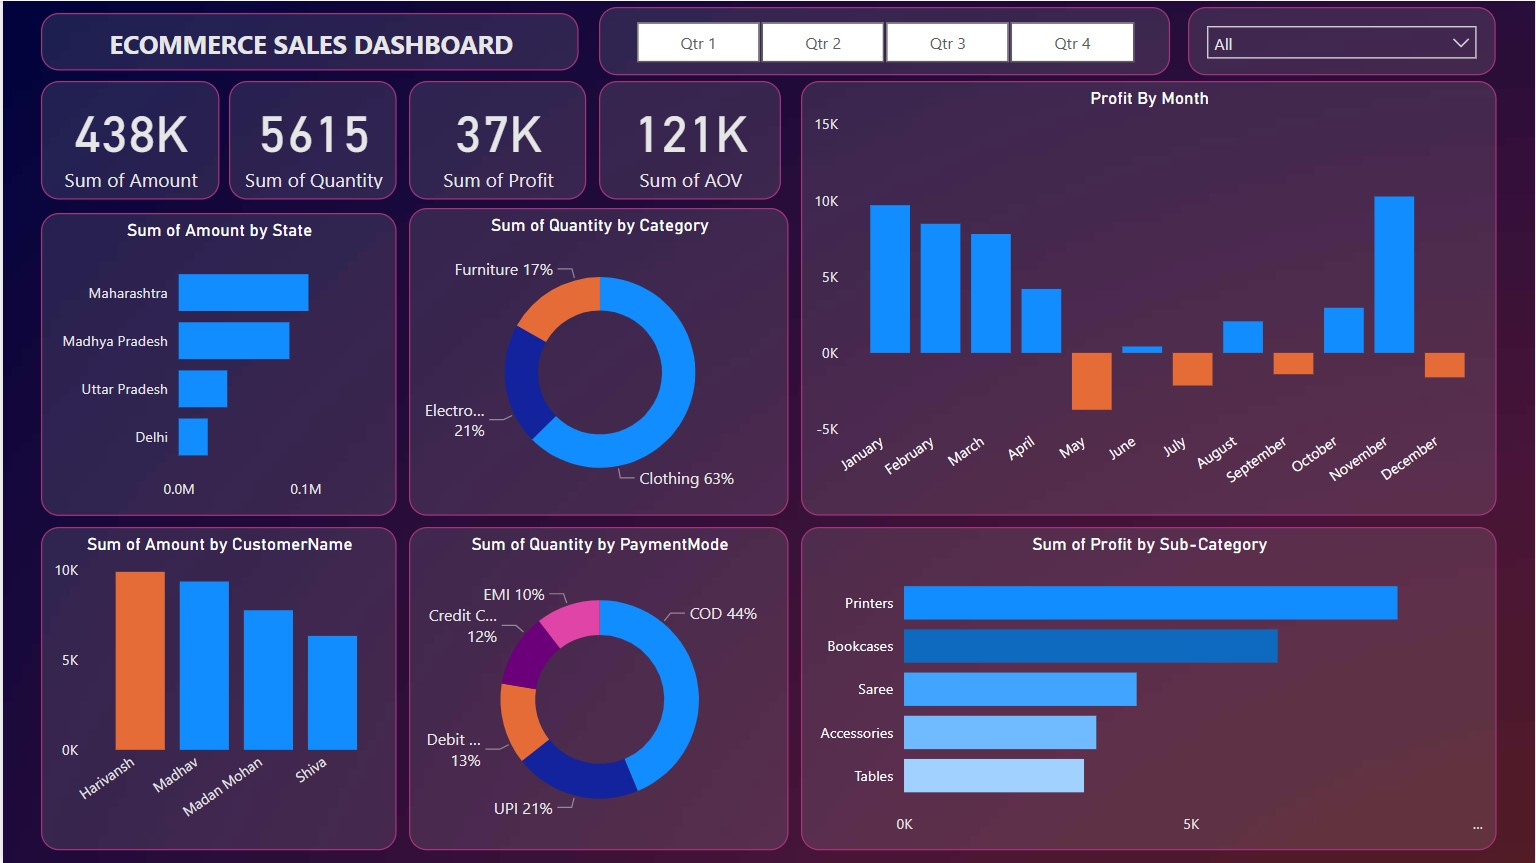

Layout of this report page (visuals, bound fields, positions):
{"tool":"powerbi","page":{"name":"Page 1","canvas":[1280,720],"ordinal":0},"visuals":[{"type":"textbox","box":[32.1,9.7,449.4,47.7],"z":0},{"type":"columnChart","title":"Profit By Month","fields":{"Category":["Orders.Order Date.Variation.Date Hierarchy.Month"],"Y":["Details.Profit"]},"box":[666.3,67.1,580.7,362.8],"z":1000},{"type":"barChart","fields":{"Category":["Details.Sub-Category"],"Y":["Details.Profit"]},"box":[666.3,439.6,580.7,270.4],"z":2000},{"type":"donutChart","fields":{"Category":["Details.Category"],"Y":["Details.Quantity"]},"box":[339.5,173.1,317.1,256.8],"z":3000},{"type":"donutChart","fields":{"Y":["Details.Quantity"],"Category":["Details.PaymentMode"]},"box":[339.5,439.6,317.1,270.4],"z":4000},{"type":"card","fields":{"Values":["Details.Amount"]},"box":[32.1,67.1,148.8,99.2],"z":5000},{"type":"card","fields":{"Values":["Details.Quantity"]},"box":[188.7,67.1,140.1,99.2],"z":6000},{"type":"card","fields":{"Values":["Details.Profit"]},"box":[339.5,67.1,147.8,99.2],"z":7000},{"type":"card","fields":{"Values":["Details.AOV"]},"box":[498,67.1,151.7,99.2],"z":8000},{"type":"barChart","fields":{"Category":["Orders.State"],"Y":["Details.Amount"]},"box":[32.1,177,296.7,252.9],"z":9000},{"type":"columnChart","fields":{"Category":["Orders.CustomerName"],"Y":["Details.Amount"]},"box":[32.1,439.6,296.7,270.4],"z":10000},{"type":"slicer","fields":{"Values":["Orders.Order Date.Variation.Date Hierarchy.Quarter"]},"box":[498,4.9,476.6,57.4],"z":10001},{"type":"slicer","fields":{"Values":["Orders.State"]},"box":[990.2,4.9,256.8,57.4],"z":10002}]}

Visuals, with their boxes in screenshot pixels (x1, y1, x2, y2), scaled from the page's 1280x720 canvas onto the 1536x863 screenshot:
textbox: BBox(39, 12, 578, 69)
"Profit By Month" columnChart: BBox(800, 80, 1496, 515)
barChart - Details.Sub-Category x Details.Profit: BBox(800, 527, 1496, 851)
donutChart - Details.Category x Details.Quantity: BBox(407, 207, 788, 515)
donutChart - Details.Quantity x Details.PaymentMode: BBox(407, 527, 788, 851)
card - Details.Amount: BBox(39, 80, 217, 199)
card - Details.Quantity: BBox(226, 80, 395, 199)
card - Details.Profit: BBox(407, 80, 585, 199)
card - Details.AOV: BBox(598, 80, 780, 199)
barChart - Orders.State x Details.Amount: BBox(39, 212, 395, 515)
columnChart - Orders.CustomerName x Details.Amount: BBox(39, 527, 395, 851)
slicer - Orders.Order Date.Variation.Date Hierarchy.Quarter: BBox(598, 6, 1170, 75)
slicer - Orders.State: BBox(1188, 6, 1496, 75)
